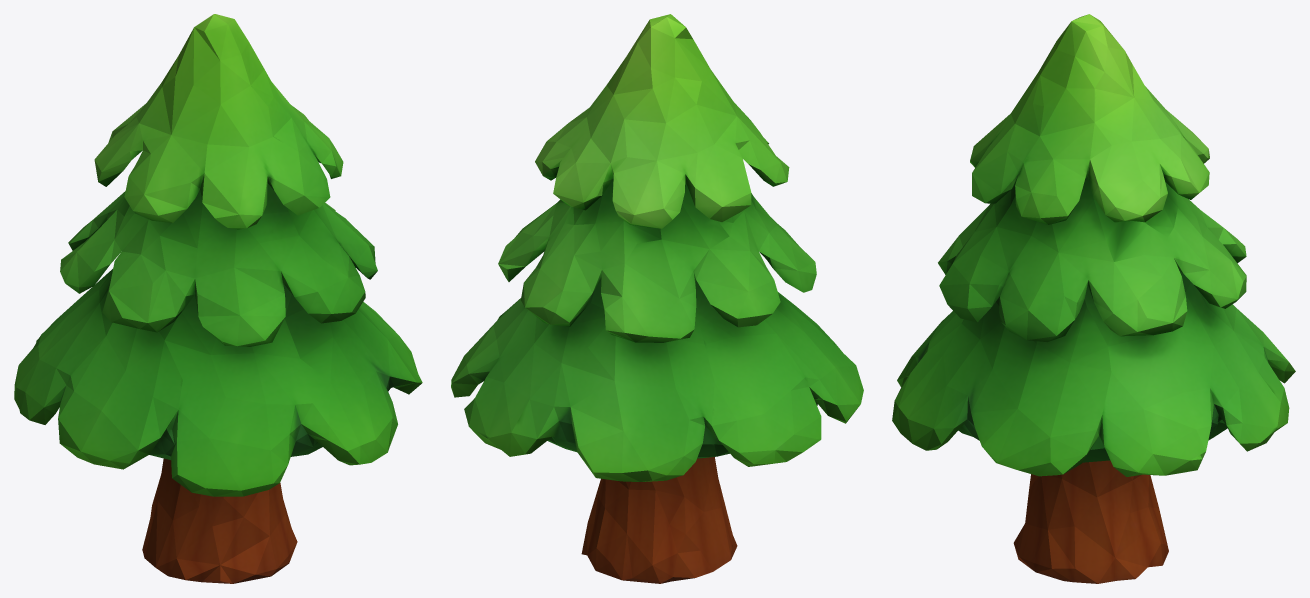
The model's file is pine_tree.glb.
The picture shows the model from 3 angles, left to right: view 1: azimuth 30°, elevation 25°; view 2: azimuth 150°, elevation 25°; view 3: azimuth 270°, elevation 25°; orthographic projection.
Parts seen in each view (by area): view 1: geometry_0; view 2: geometry_0; view 3: geometry_0.
Part boxes in pixels (bbox=[...]): geometry_0: bbox=[14, 14, 422, 583]; geometry_0: bbox=[451, 14, 863, 583]; geometry_0: bbox=[892, 14, 1295, 583].
Size of the model in its own units: 0.6864 by 1 by 0.6855.
1 material, 1 textured.
